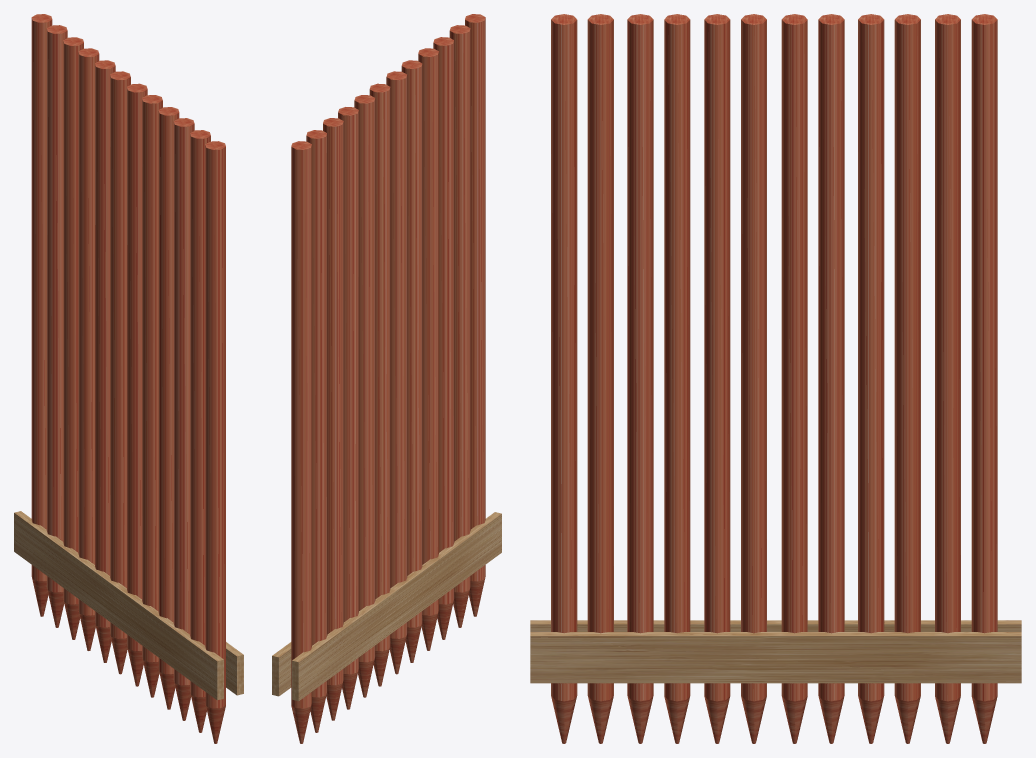
The model's file is porch_close-2.fbx.
3 views of the same model, side by side, from view 1: azimuth 30°, elevation 25°; view 2: azimuth 150°, elevation 25°; view 3: azimuth 270°, elevation 25° (orthographic). The views are drawn at different scales.
Parts seen in each view (by area): view 1: pencil_1, balken; view 2: pencil_1, balken; view 3: pencil_1, balken.
Boxes of the visible parts, x1,y1,x2,y2 form: pencil_1: (31,14,225,743); balken: (14,511,243,700); pencil_1: (291,14,485,743); balken: (272,512,501,701); pencil_1: (551,14,997,743); balken: (530,620,1021,683).
Bounding box in the file's own units: 143 × 3060 × 1884.
2 materials, 2 textured.
